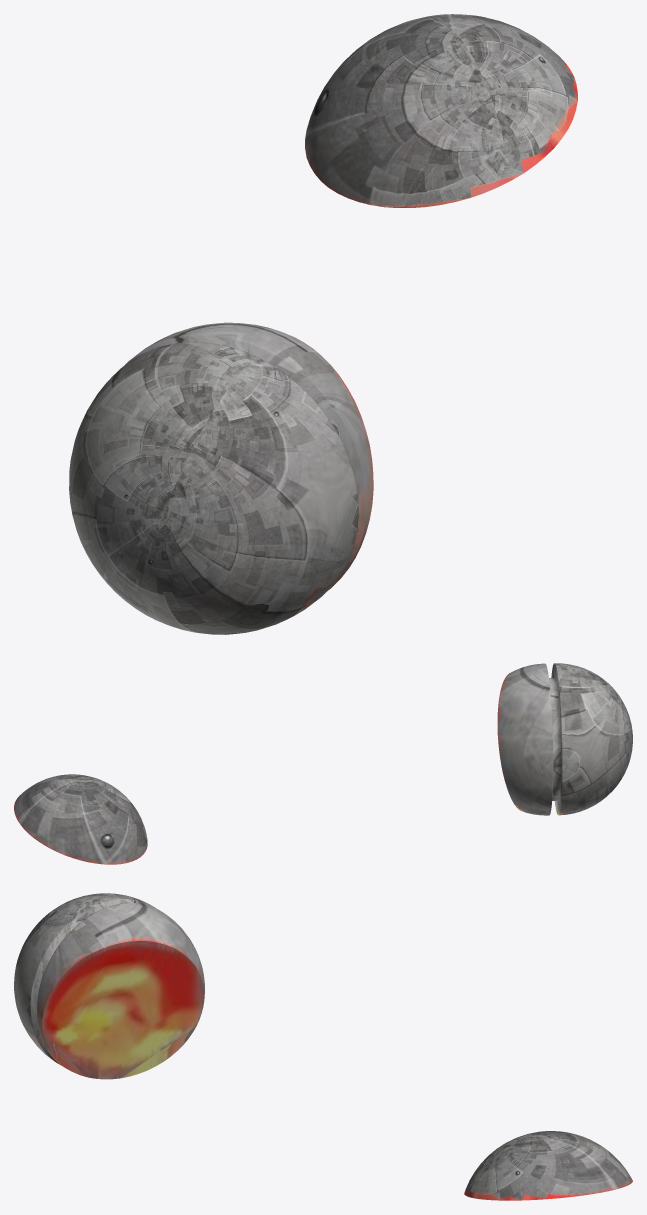
The model's file is Drone166_000029.obj.
3 views of the same model, one above another, from view 1: azimuth 30°, elevation 25°; view 2: azimuth 150°, elevation 25°; view 3: azimuth 270°, elevation 25° (orthographic). The views are drawn at different scales.
Parts seen in each view (by area): view 1: Sphere.006, Sphere.000_Sphere.007; view 2: Sphere.006, Sphere.000_Sphere.007; view 3: Sphere.006, Sphere.000_Sphere.007.
Boxes of the visible parts, x1,y1,x2,y2 form: Sphere.006: (69,322,373,634); Sphere.000_Sphere.007: (305,14,577,207); Sphere.006: (497,663,632,815); Sphere.000_Sphere.007: (14,774,147,864); Sphere.006: (14,893,204,1079); Sphere.000_Sphere.007: (464,1131,632,1200).
Bounding box in the file's own units: 6.33 × 2 × 6.73.
Materials: 3 (3 with a texture image).
